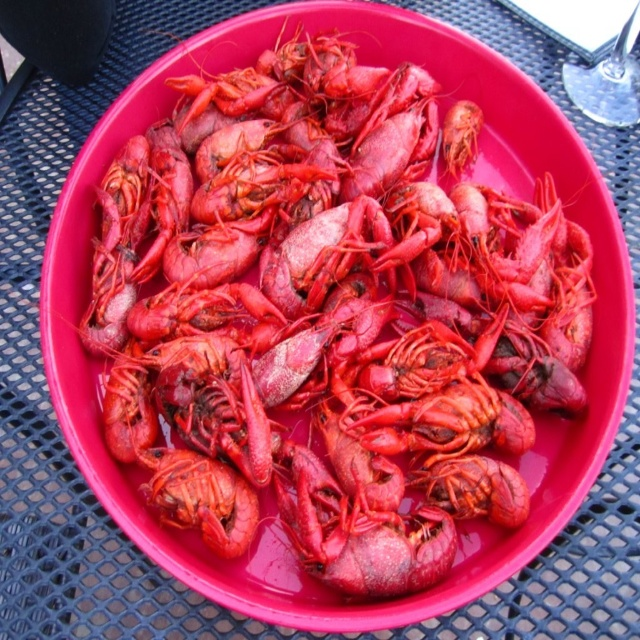Shrimp: (78, 16, 597, 601)
